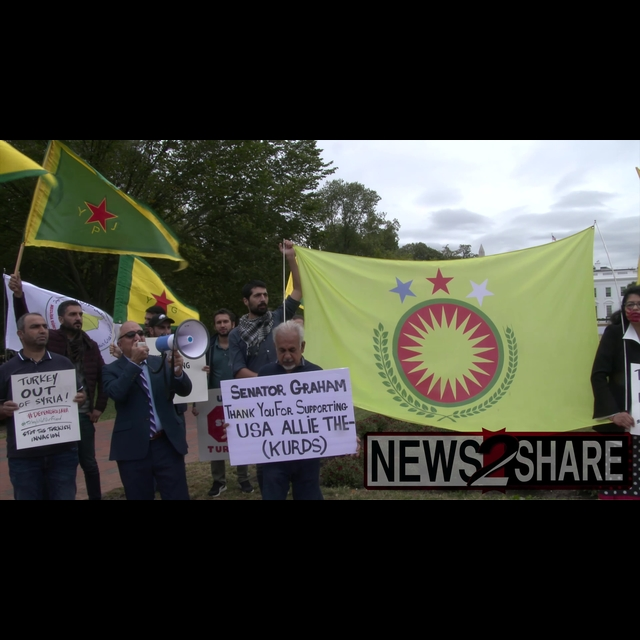YPJ: (74, 193, 126, 241)
